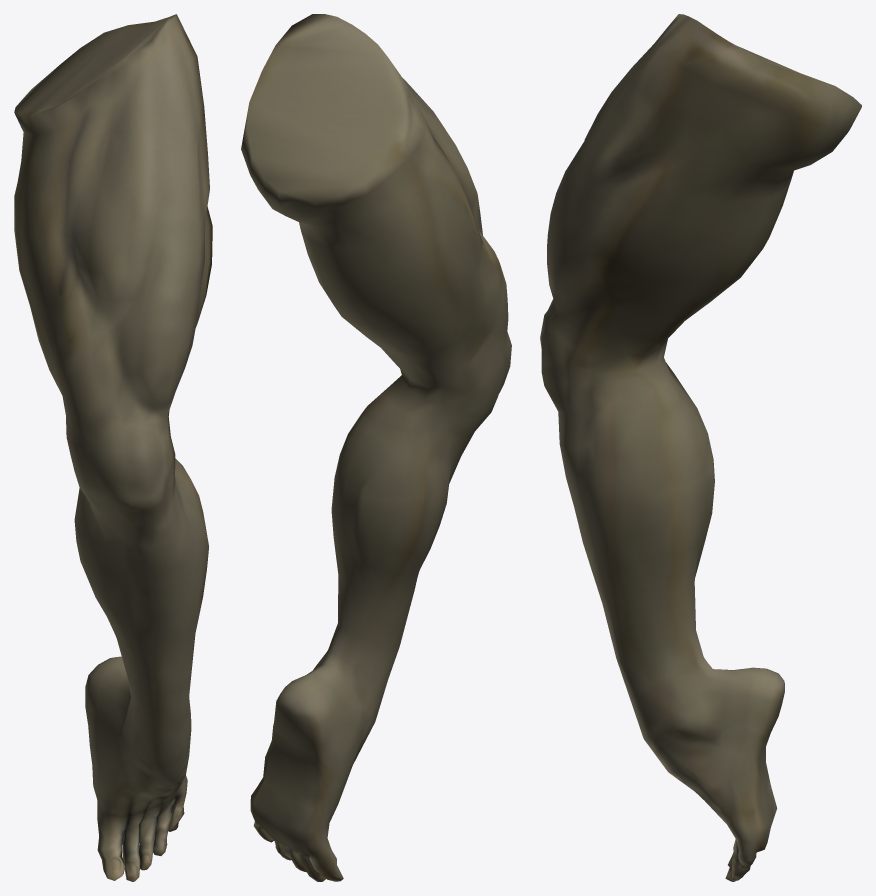
File: tripo-leg-two.glb
3 views of the same model, side by side, from view 1: azimuth 30°, elevation 25°; view 2: azimuth 150°, elevation 25°; view 3: azimuth 270°, elevation 25° (orthographic). The views are drawn at different scales.
Visible parts, largest first — view 1: tripo-leg-two; view 2: tripo-leg-two; view 3: tripo-leg-two.
Boxes of the visible parts, x1,y1,x2,y2 form: tripo-leg-two: (14,14,212,881); tripo-leg-two: (241,14,511,881); tripo-leg-two: (540,14,861,881).
Size of the model in its own units: 0.2186 by 0.9503 by 0.3172.
1 material, 1 textured.
